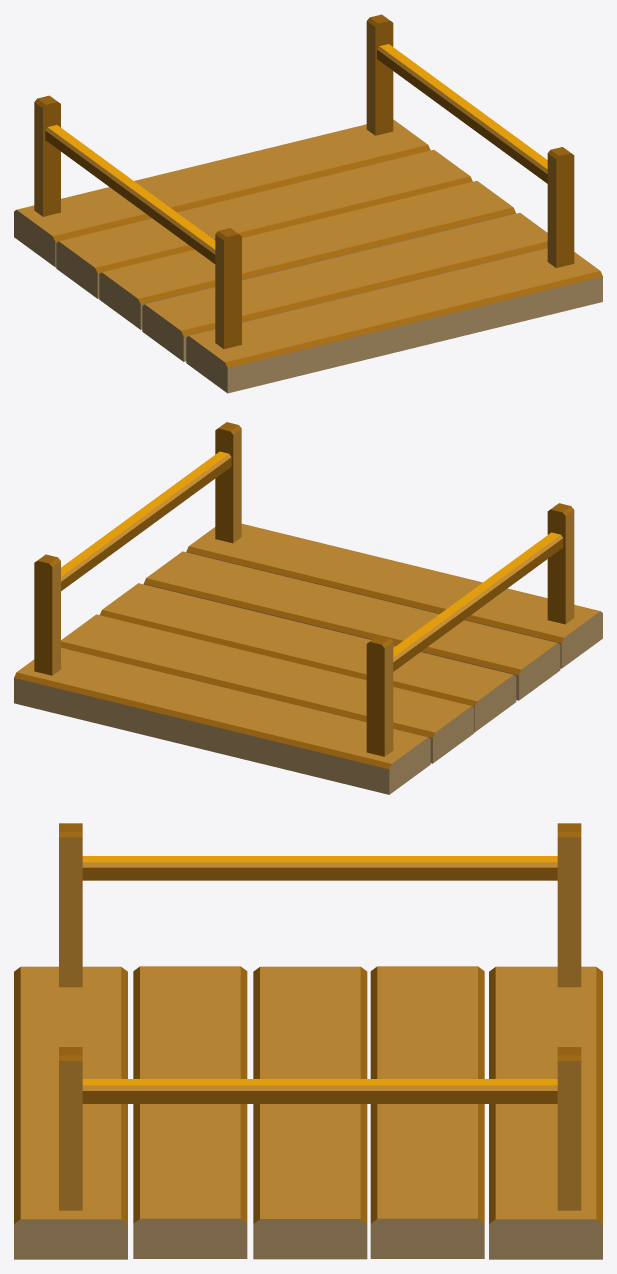
The model's file is bridge_p_close.fbx.
3 views of the same model, one above another, from view 1: azimuth 30°, elevation 25°; view 2: azimuth 150°, elevation 25°; view 3: azimuth 270°, elevation 25° (orthographic). The views are drawn at different scales.
Parts seen in each view (by area): view 1: bridge_p_close; view 2: bridge_p_close; view 3: bridge_p_close.
Part boxes in pixels (x1,y1,x2,y2): bridge_p_close: [14, 14, 602, 393]; bridge_p_close: [14, 422, 602, 794]; bridge_p_close: [14, 823, 602, 1259].
Size of the model in its own units: 50.41 by 18.01 by 49.6.
